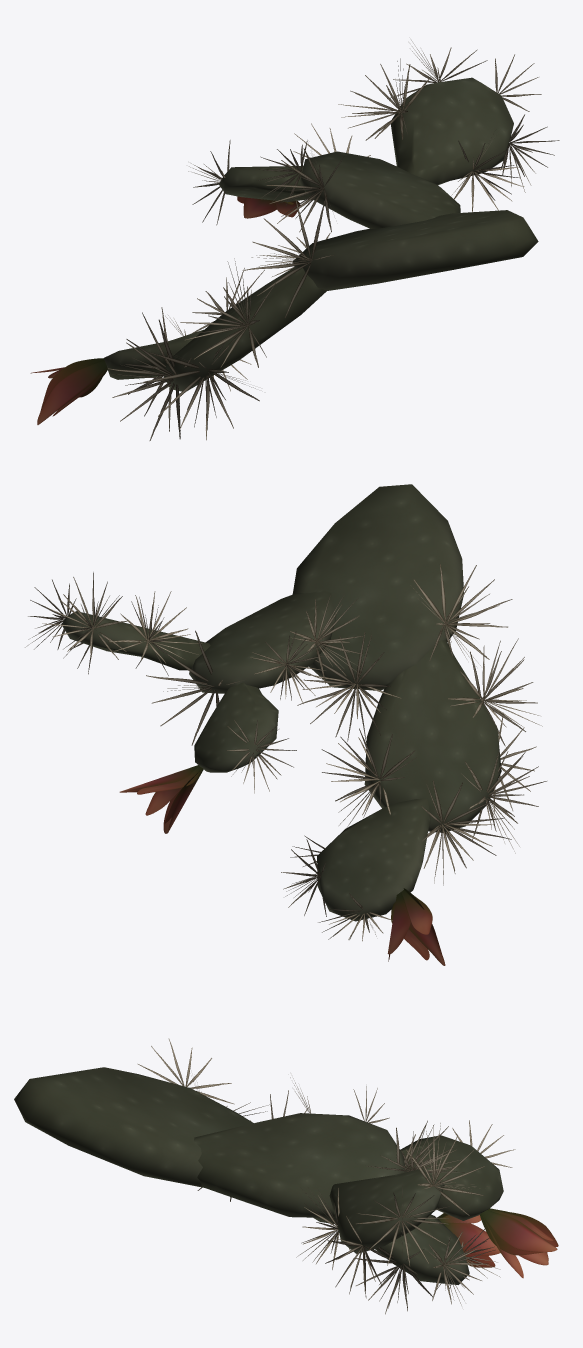
Rendered from DE_Cactus_C_02.fbx.
3 views of the same model, one above another, from view 1: azimuth 30°, elevation 25°; view 2: azimuth 150°, elevation 25°; view 3: azimuth 270°, elevation 25° (orthographic). The views are drawn at different scales.
Parts seen in each view (by area): view 1: DE_Cactus_C_02, DE_Cactus_C_Needles_02; view 2: DE_Cactus_C_02, DE_Cactus_C_Needles_02; view 3: DE_Cactus_C_02, DE_Cactus_C_Needles_02.
Boxes of the visible parts, x1,y1,x2,y2 form: DE_Cactus_C_02: (104, 77, 538, 391); DE_Cactus_C_Needles_02: (30, 40, 559, 440); DE_Cactus_C_02: (61, 484, 501, 921); DE_Cactus_C_Needles_02: (25, 564, 546, 965); DE_Cactus_C_02: (14, 1067, 503, 1284); DE_Cactus_C_Needles_02: (138, 1038, 558, 1314).
Size of the model in its own units: 1.7 by 1.1 by 1.63.
